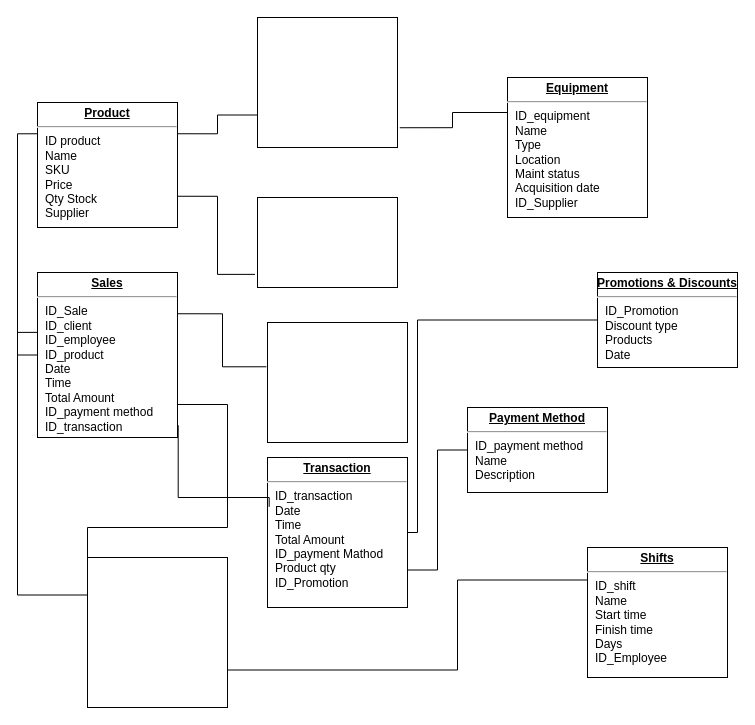
Some shapes in this 755 by 725 pixel diagram are drawn without their labels. The shapes that lost their labels are listed below. From the top down, each one's centre as x and y in pixels, then its label:
At point (327, 82): "Supplier ID_supplier Name Address Phone ID_product ID_equipment".
At point (327, 242): "Inventory ID_inventory Inventory date SKU Qty stok".
At point (337, 382): "Client ID_client Name Address Contact Phone Tax ID".
At point (157, 632): "Employee ID_Employee Name Position Salary Senority Start date ID_Shift".
